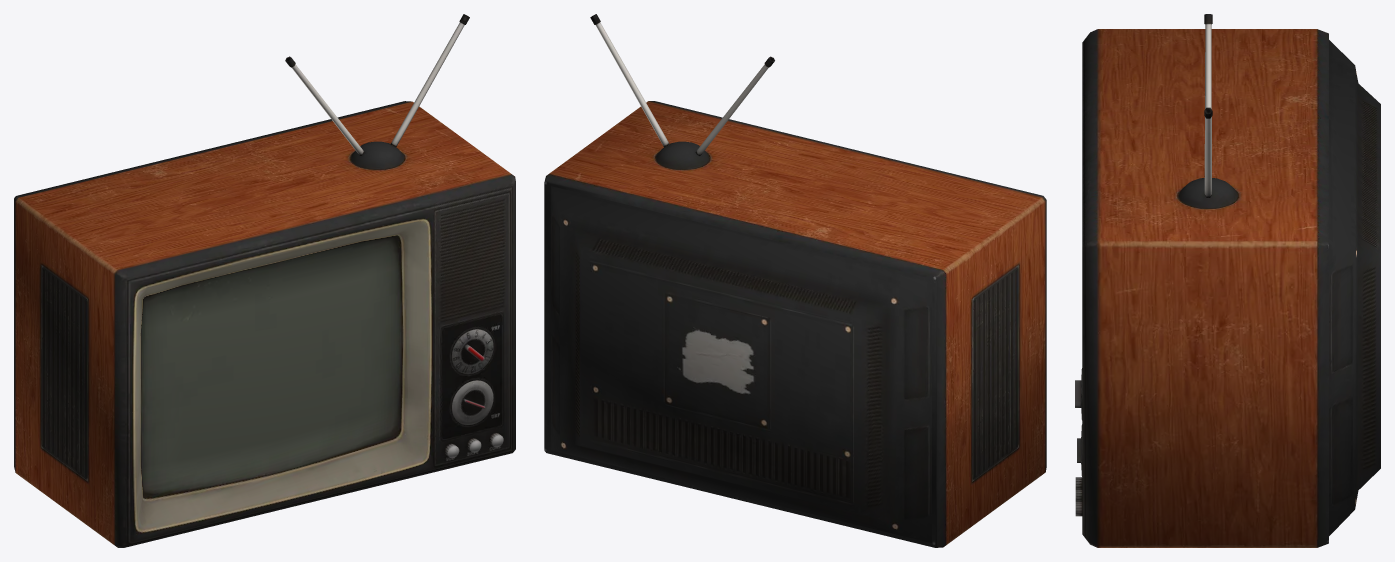
The model's file is vintage_tv-transformed.glb.
3 renders of one model, left to right at view 1: azimuth 30°, elevation 25°; view 2: azimuth 150°, elevation 25°; view 3: azimuth 270°, elevation 25°, orthographic. The views are drawn at different scales.
Visible parts, largest first — view 1: tv-b_low_tv-retro_0; view 2: tv-b_low_tv-retro_0; view 3: tv-b_low_tv-retro_0.
Part boxes in pixels (x1,y1,x2,y2): tv-b_low_tv-retro_0: (14,14,515,547); tv-b_low_tv-retro_0: (544,14,1046,547); tv-b_low_tv-retro_0: (1075,14,1380,547).
Size of the model in its own units: 3.63 by 3.43 by 2.15.
Materials: 1 (1 with a texture image).
